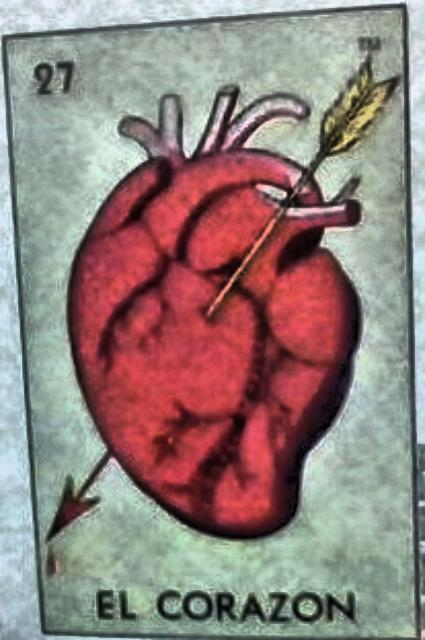El Corazon: (6, 7, 418, 638)
